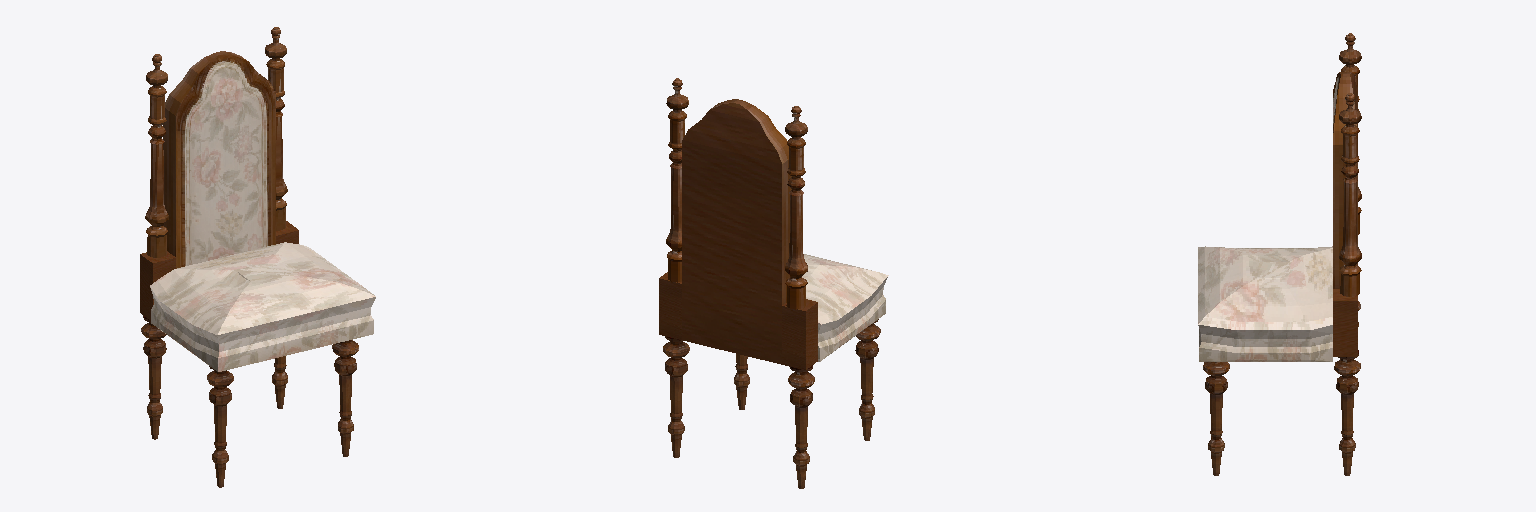
The picture shows the model from 3 angles: view 1: azimuth 30°, elevation 25°; view 2: azimuth 150°, elevation 25°; view 3: azimuth 270°, elevation 25°; orthographic projection.
Visible parts, largest first — view 1: chair1; view 2: chair1; view 3: chair1.
Boxes of the visible parts, x1=… form: chair1: x1=140, y1=27, x2=375, y2=487; chair1: x1=659, y1=78, x2=888, y2=488; chair1: x1=1198, y1=33, x2=1361, y2=475.
Size of the model in its own units: 0.6398 by 1.4 by 0.5451.
Materials: 1 (1 with a texture image).